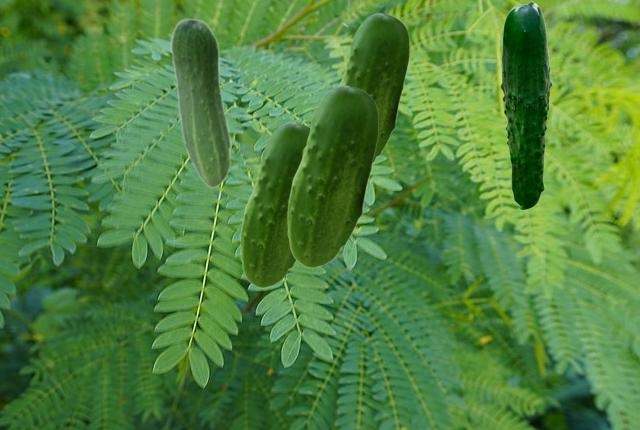cucumber: (287, 85, 377, 267), (240, 122, 309, 287), (500, 1, 551, 209), (170, 17, 231, 187), (339, 13, 408, 163)
